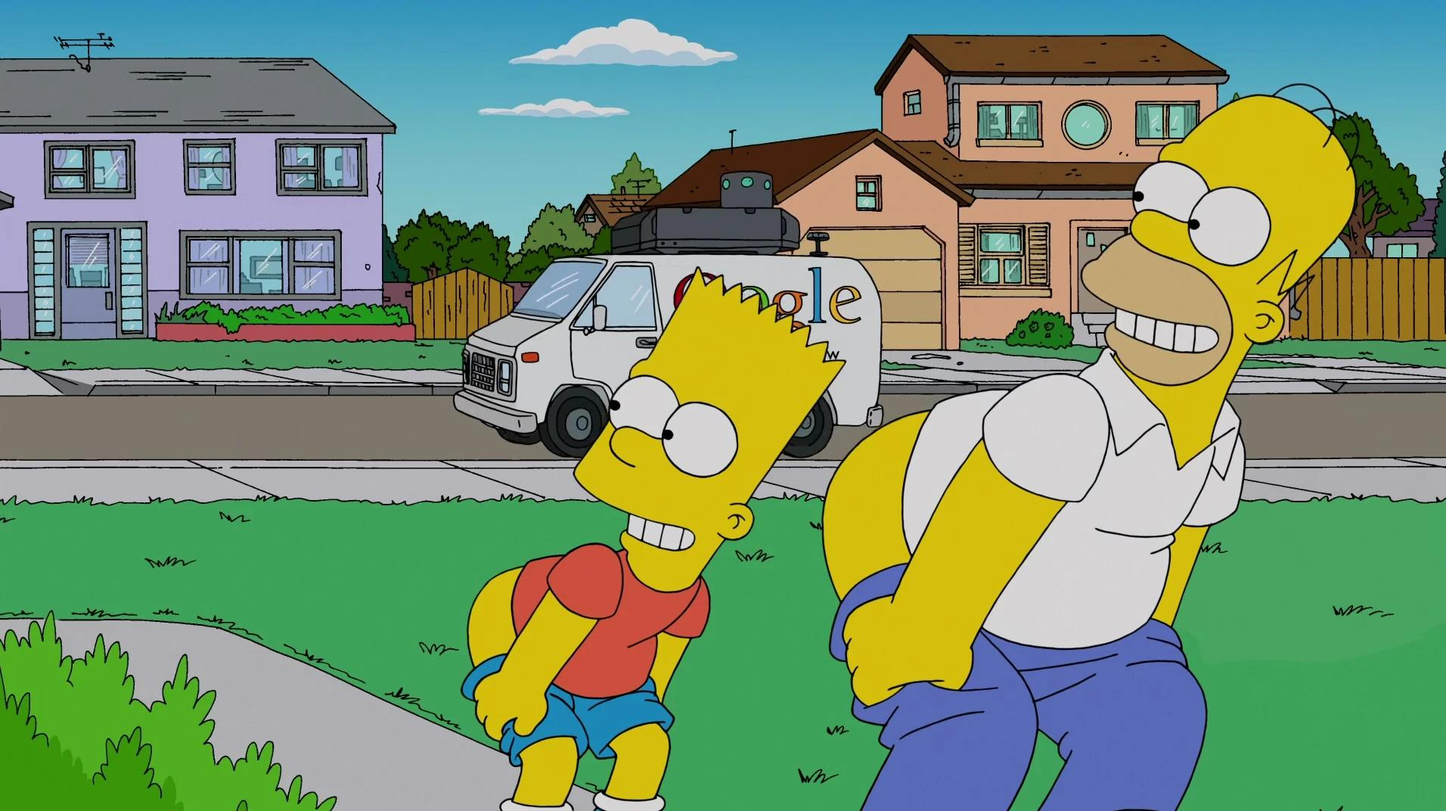Bart: (564, 258, 843, 629)
Homer: (1059, 87, 1409, 573)
